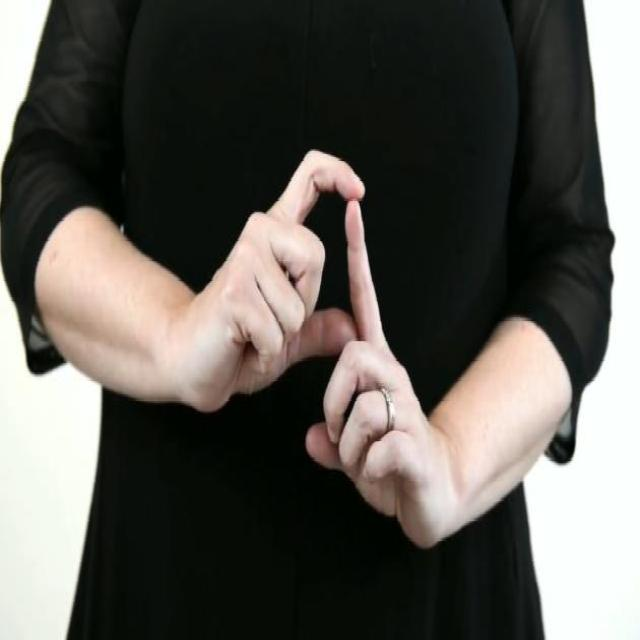D: (196, 146, 440, 557)
